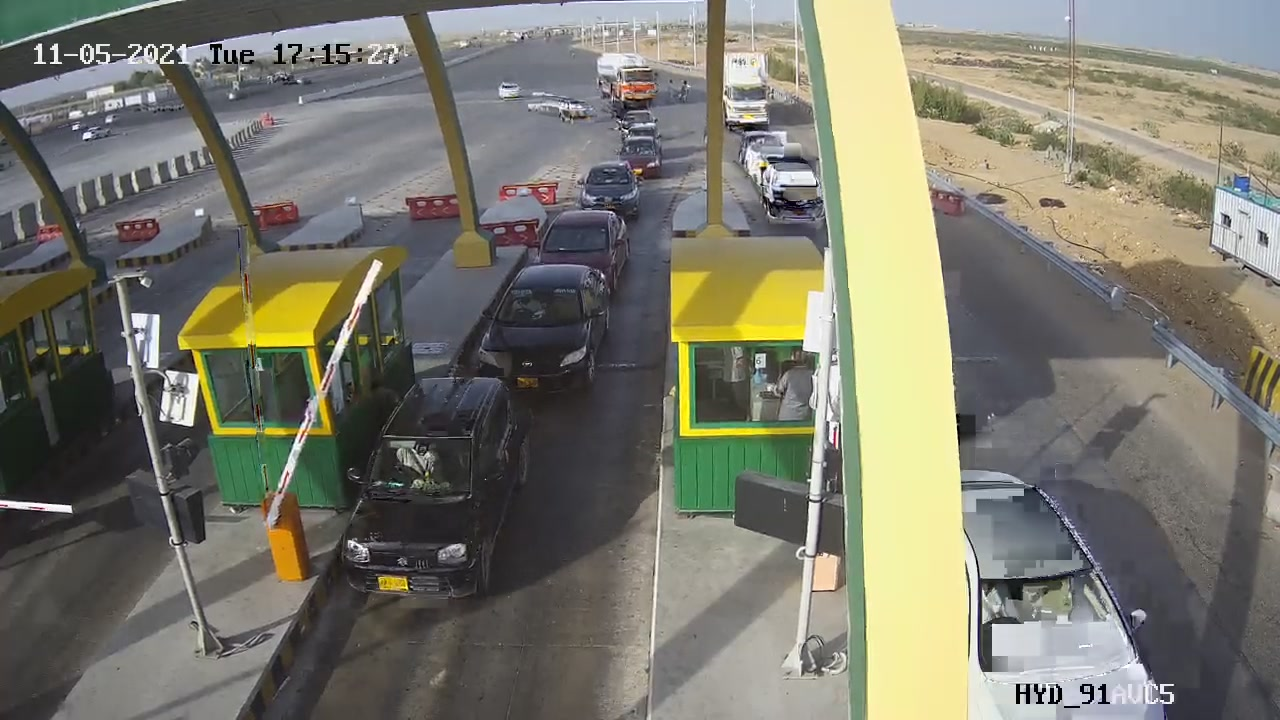F1: (331, 359, 551, 609), (460, 252, 631, 412)
